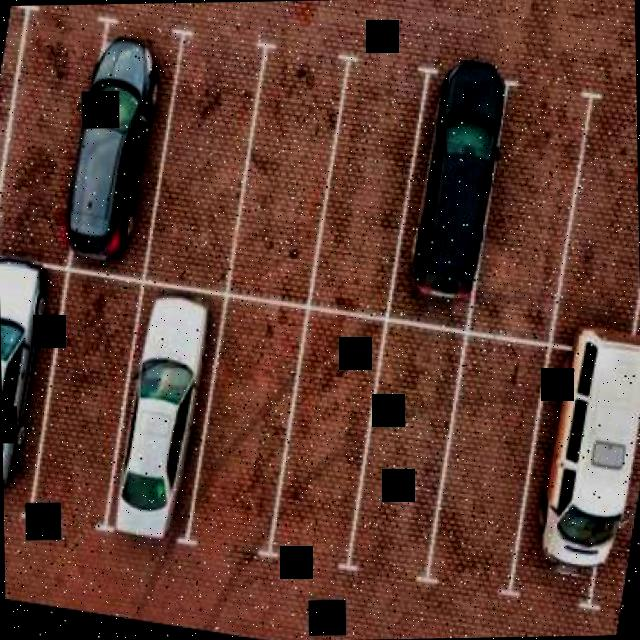car: (90, 273, 230, 562), (390, 37, 522, 316), (48, 6, 176, 261), (519, 324, 640, 584), (0, 242, 62, 526)
free: (424, 330, 548, 584), (264, 312, 387, 558), (188, 299, 308, 545), (308, 57, 428, 296), (146, 36, 263, 280), (348, 318, 464, 564), (25, 277, 138, 525), (230, 42, 341, 294), (472, 80, 585, 327), (0, 14, 93, 249), (550, 96, 640, 334)
